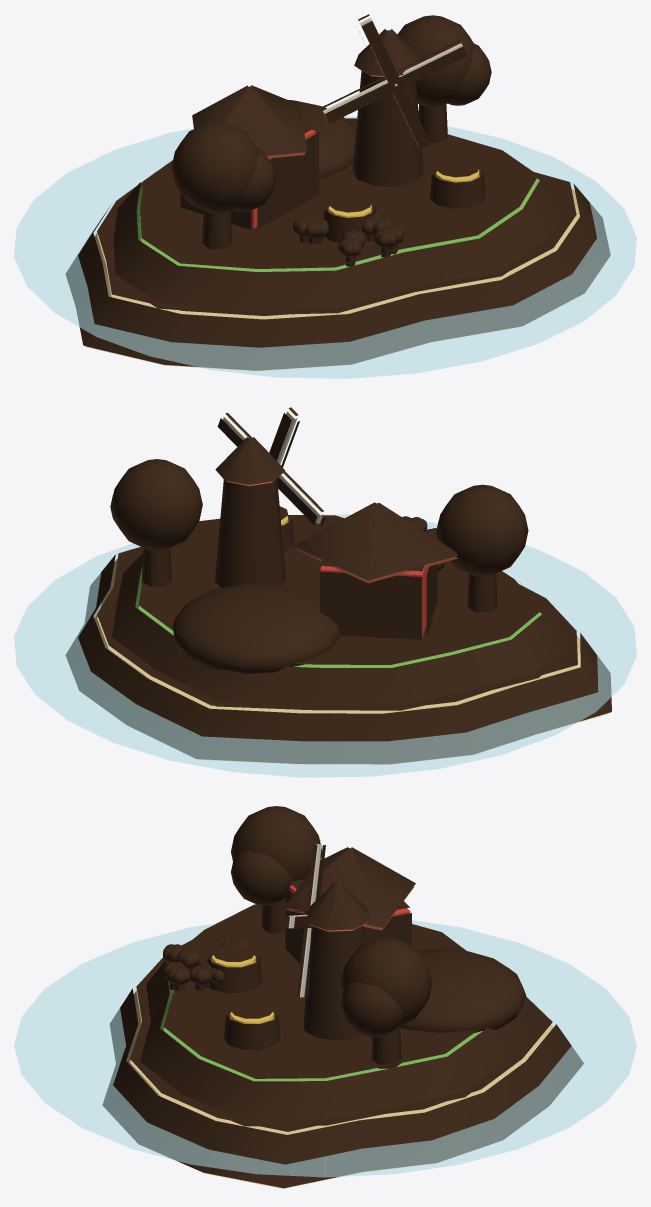
The model's file is island-meadow.glb.
3 views of the same model, one above another, from view 1: azimuth 30°, elevation 25°; view 2: azimuth 150°, elevation 25°; view 3: azimuth 270°, elevation 25° (orthographic).
Parts seen in each view (by area): view 1: outline (×19), Group; view 2: outline (×13), Group (×2); view 3: outline (×15), Group.
Boxes of the visible parts, left/top/right/bottom form: outline (×19): left=65, top=14, right=610, bottom=370; Group: left=14, top=116, right=636, bottom=378; outline (×13): left=65, top=407, right=611, bottom=764; Group (×2): left=14, top=514, right=636, bottom=777; outline (×15): left=102, top=806, right=583, bottom=1188; Group: left=14, top=920, right=636, bottom=1188.
Size of the model in its own units: 5.1 by 2.25 by 5.1.
